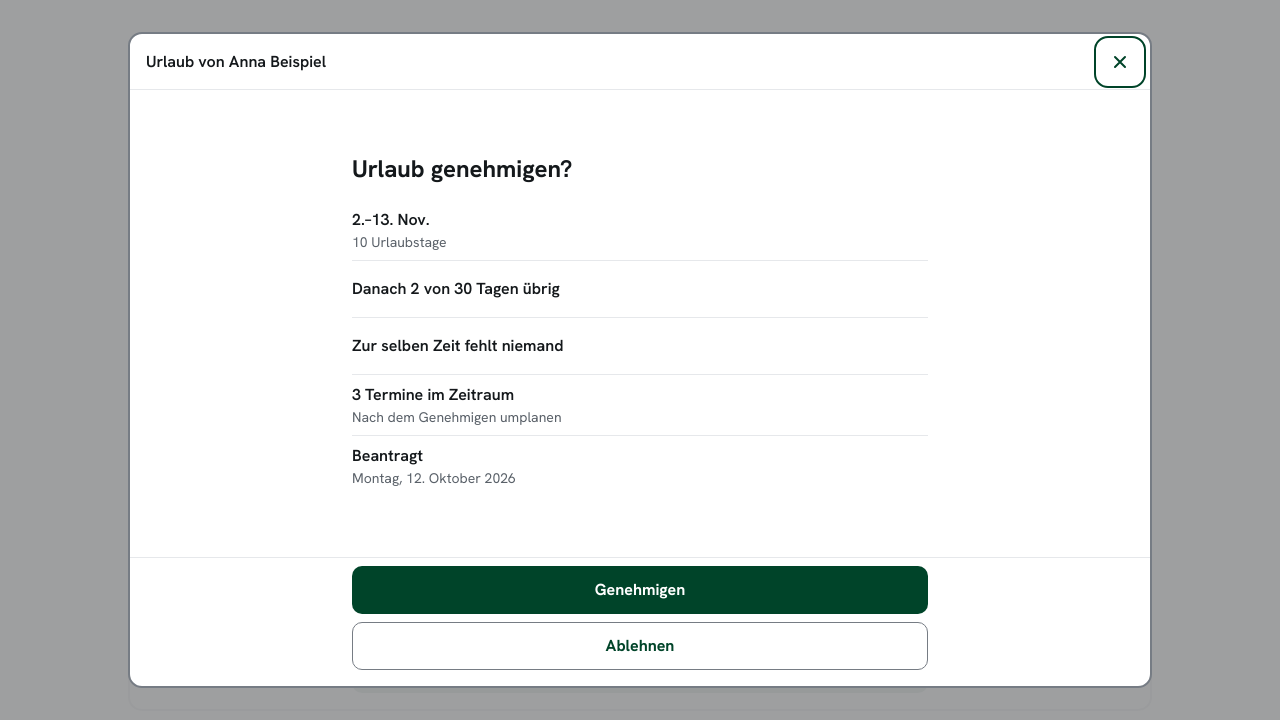
Test case: UrlaubEntscheidenPage › lehnt nur mit Grund ab
Click the 2nd button "Ablehnen". click: click(640, 646)
box: [352,622,928,670]
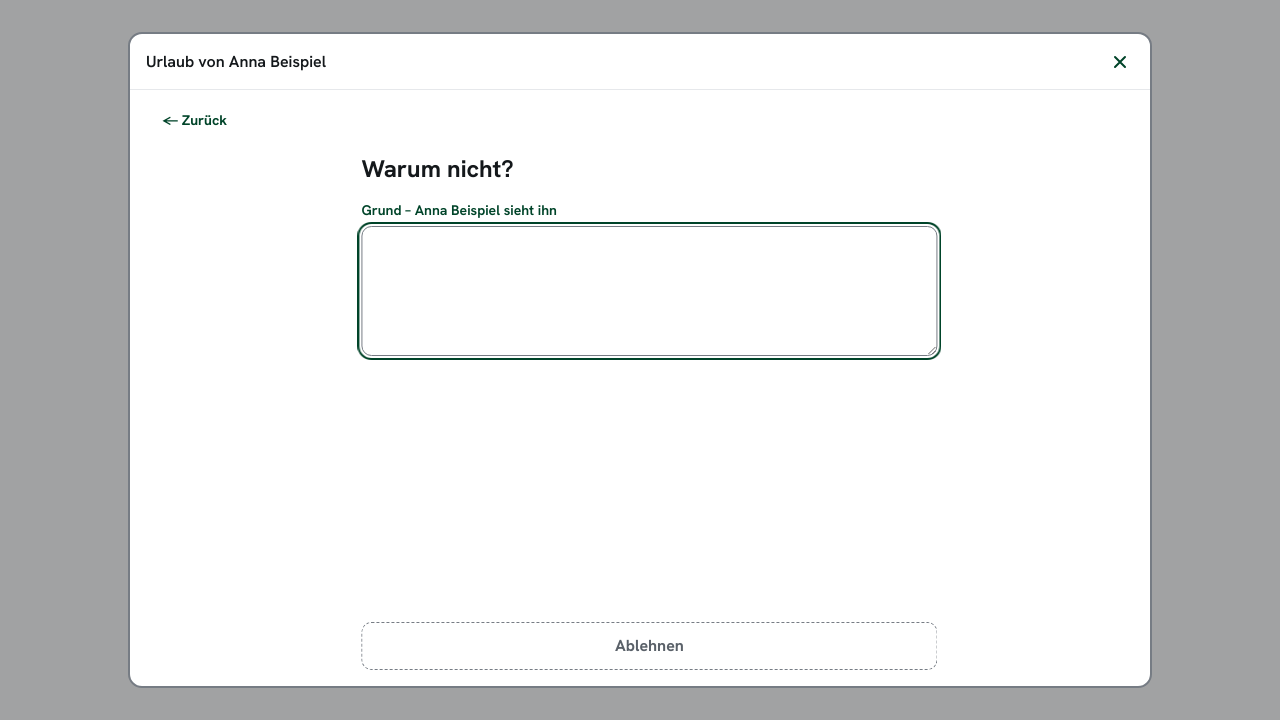
Expected: the button "Ablehnen" is disabled, [353,622,929,670]
Type "Zu viele zugleich weg" into the text box labelled "Grund – Anna Beispiel sieht ihn". click: (641, 291)
box: [353,226,929,356]
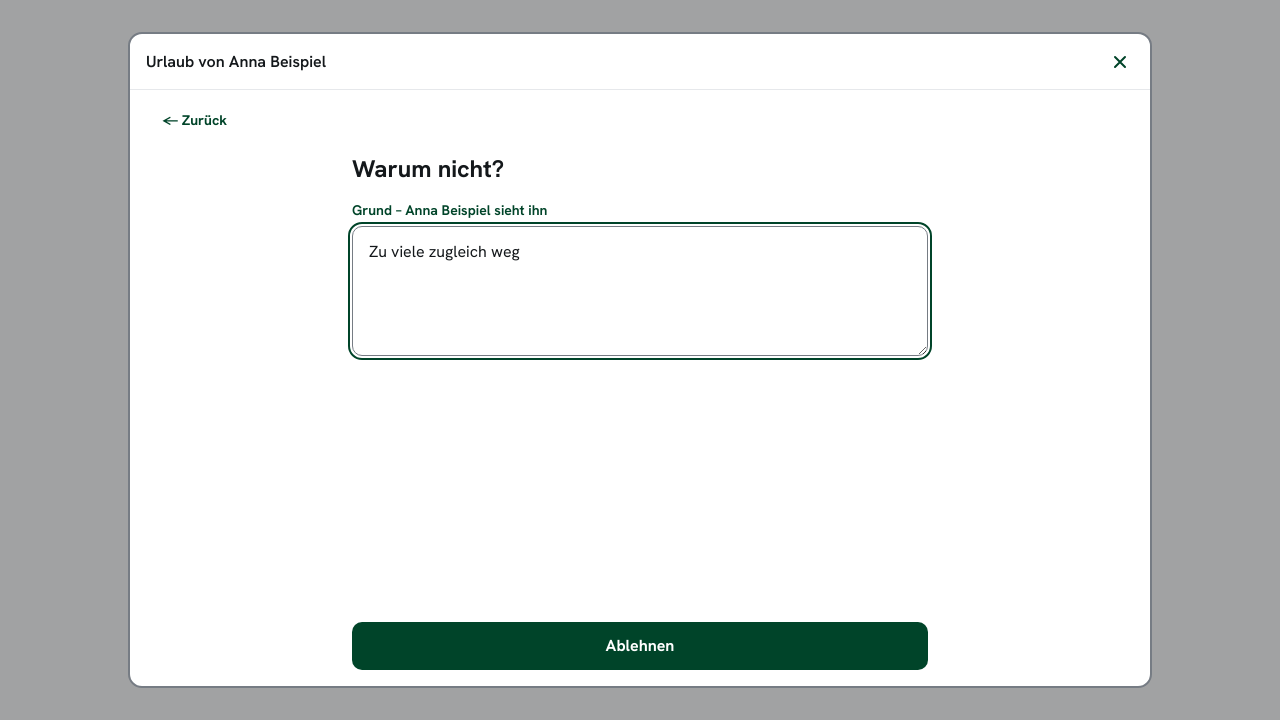
Click the button "Ablehnen". click: click(640, 646)
box: [352,622,928,670]
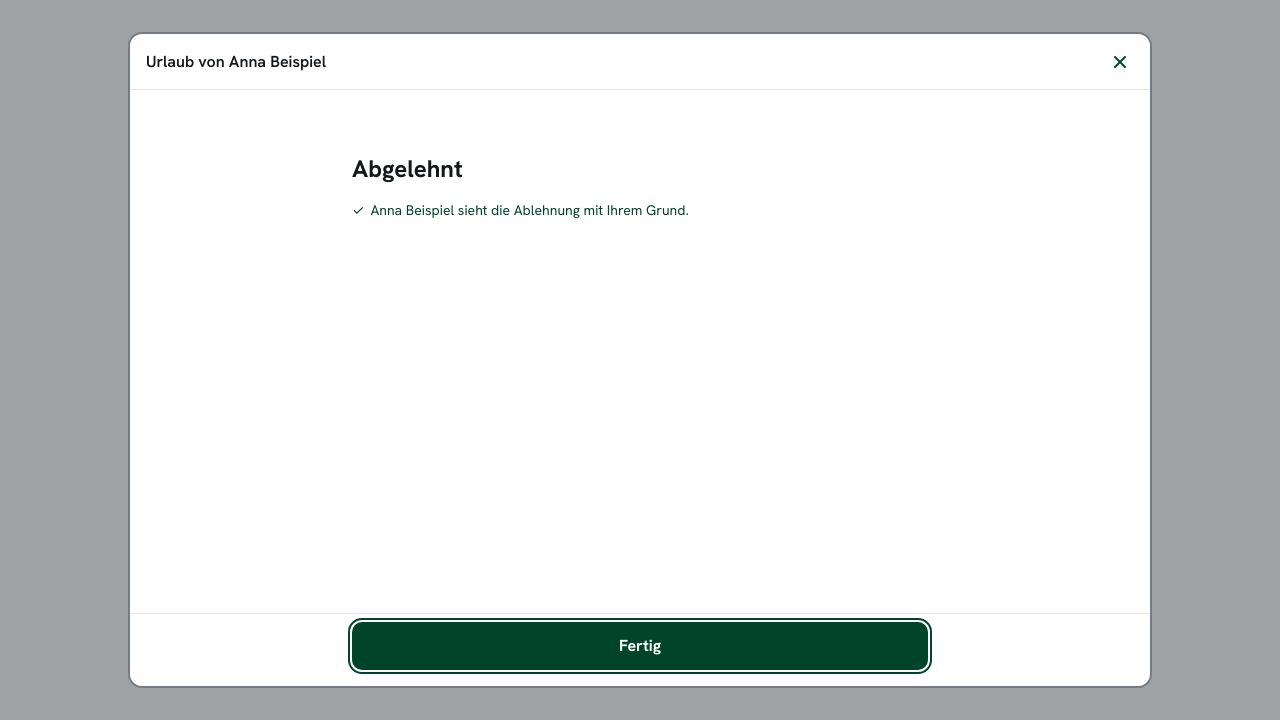
Expected: the text "Anna Beispiel sieht die Ablehnung mit Ihrem Grund." is shown, [370,201,689,219]
